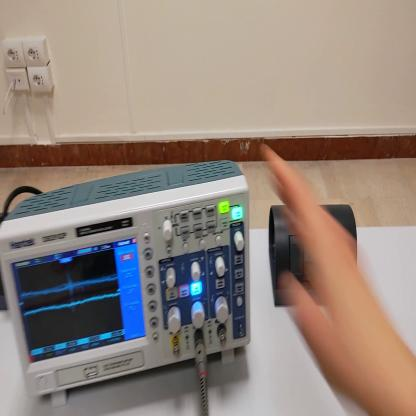hand: (264, 146, 395, 394)
oscilloscope: (1, 161, 250, 412)
socket: (3, 279, 9, 312)
